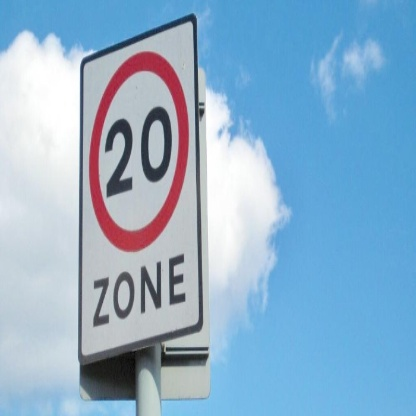limit2: (85, 48, 195, 255)
